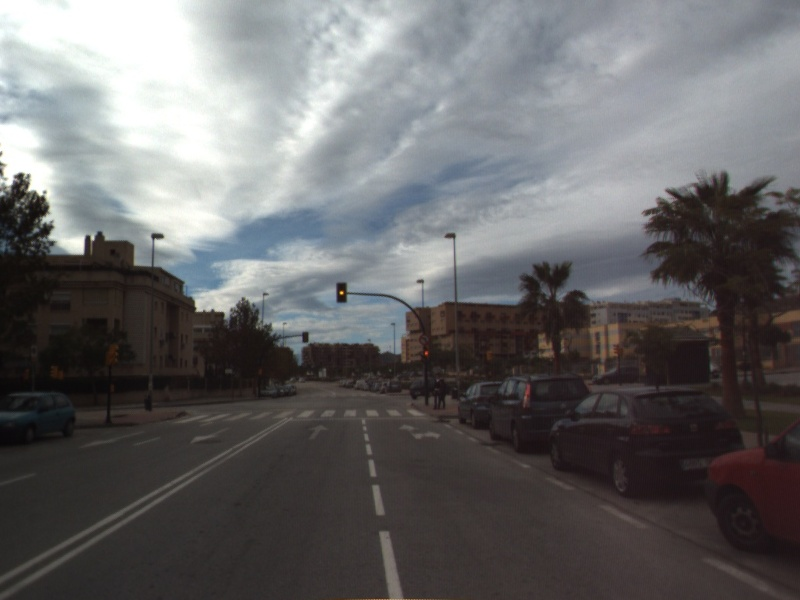STRAIGHT: (305, 422, 331, 442)
STRAIGHT_RIGHT: (397, 422, 443, 442)
